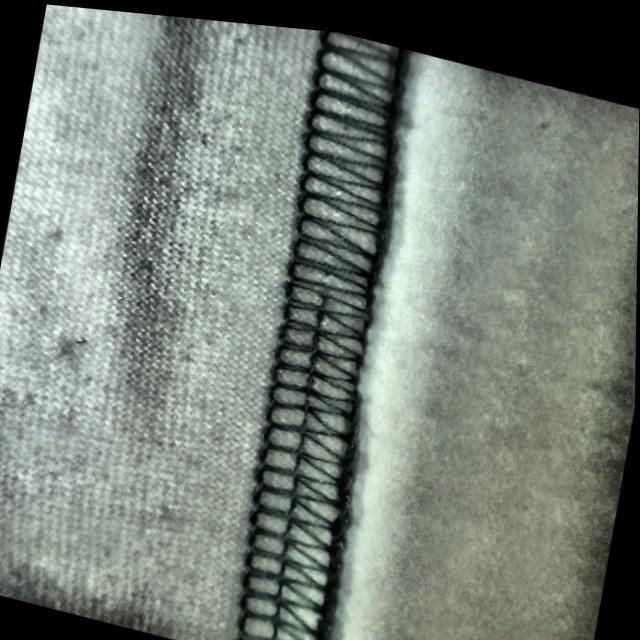Stitch: (210, 69, 448, 528)
